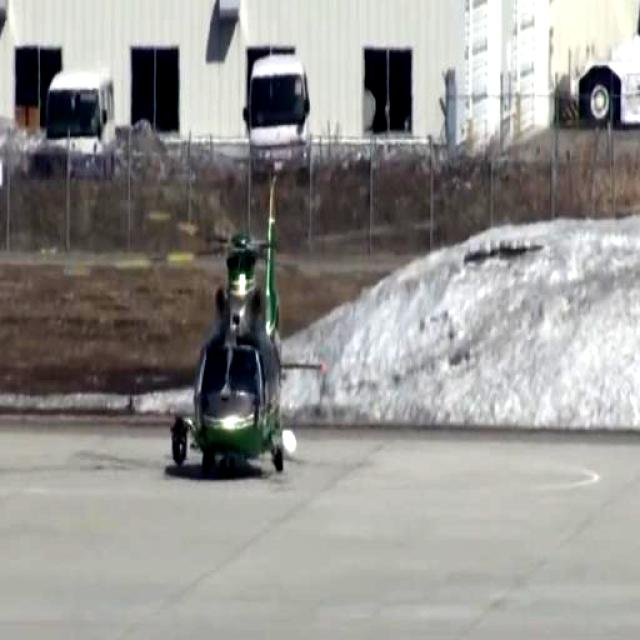drone: (171, 188, 316, 469)
